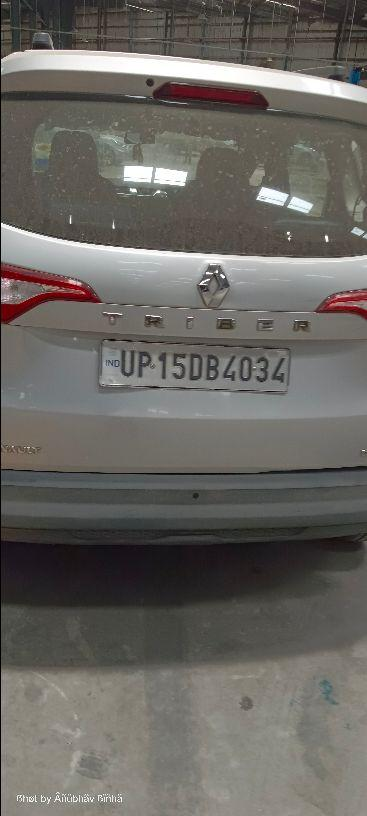license_plate: (97, 337, 291, 393)
